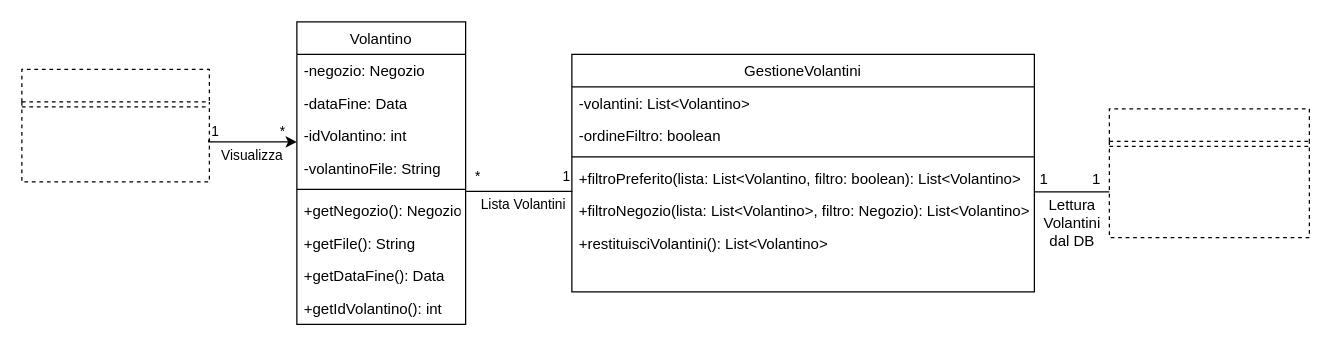
The diagram is 1331 pixels wide and 350 high, and some of its shapes have lost their labels. The centre of each missing label's shape, as x and y in pixels:
"LetturaDBDati" belongs at point 1208,173.
"Utente" belongs at point 115,125.
